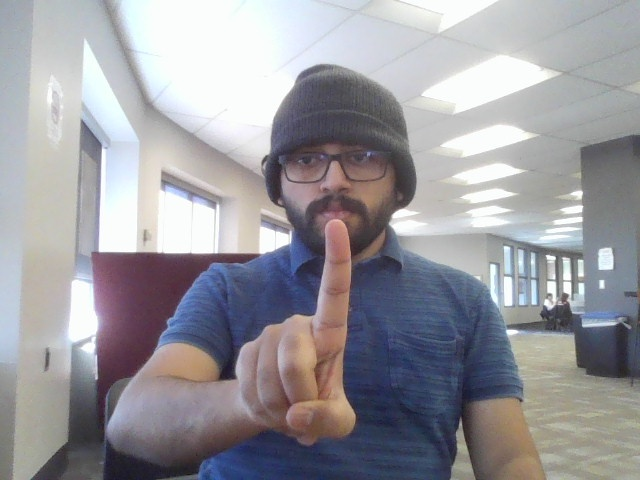one: (223, 215, 373, 460)
